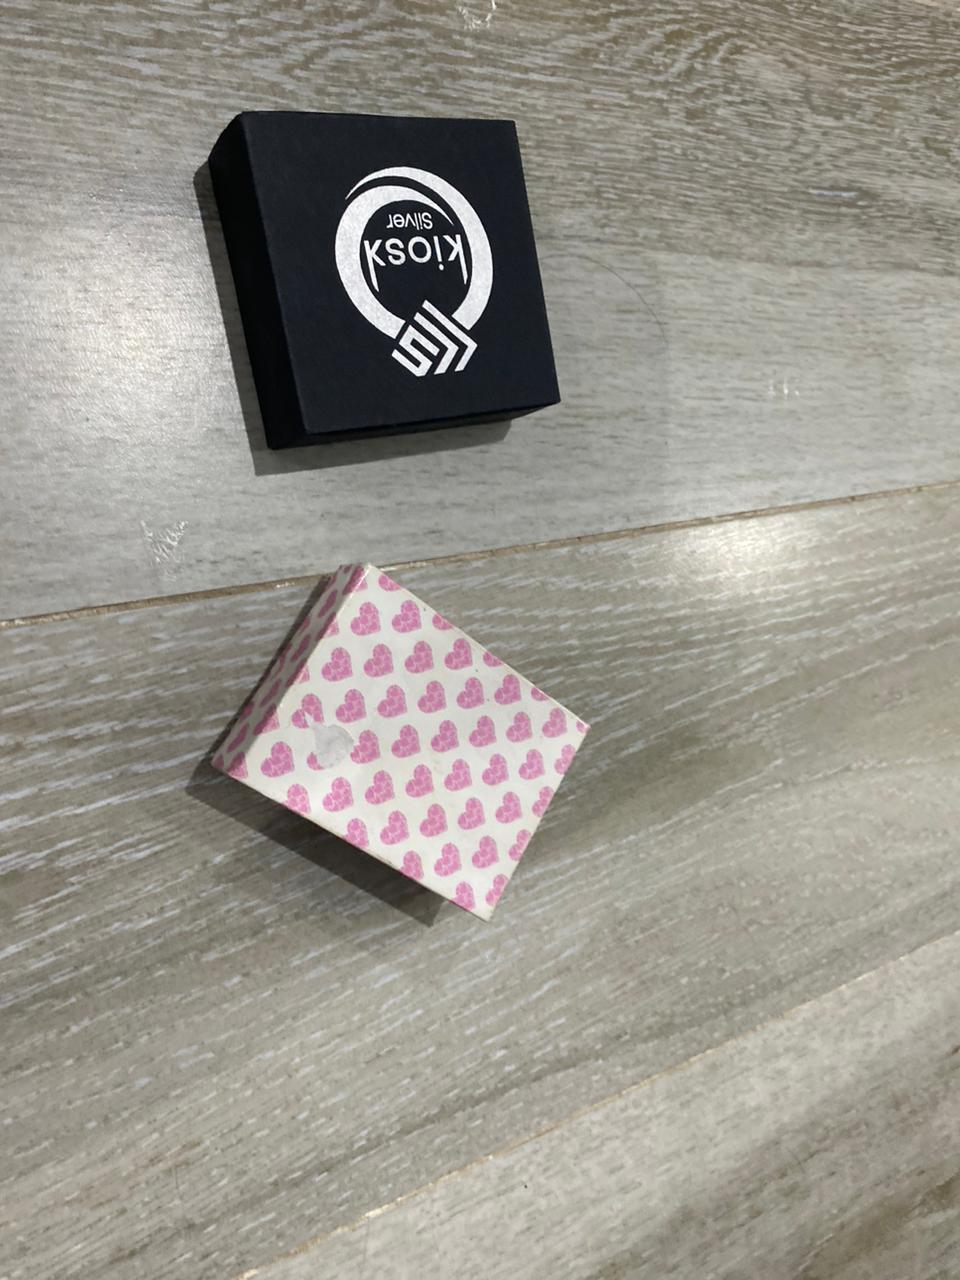Pink Box: (198, 559, 591, 927)
Red Box: (199, 105, 568, 453)
